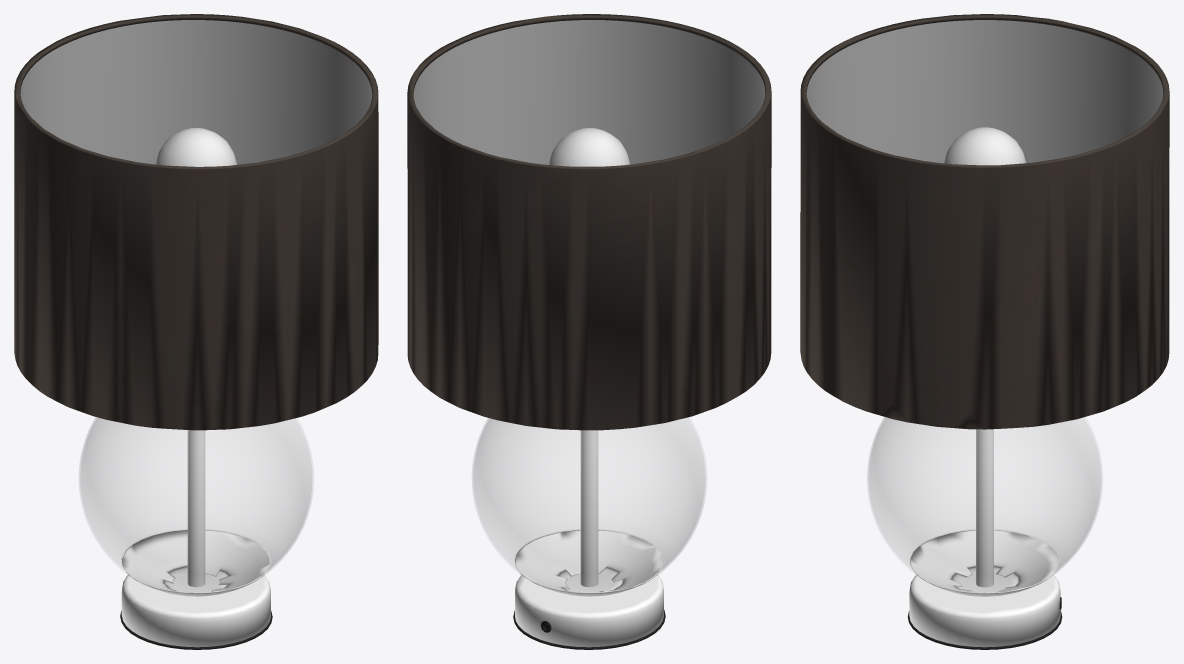
Rendered from IridescenceLamp.glb.
3 renders of one model, left to right at view 1: azimuth 30°, elevation 25°; view 2: azimuth 150°, elevation 25°; view 3: azimuth 270°, elevation 25°, orthographic.
Parts seen in each view (by area): view 1: lamp, lamp_iridescence, lamp_transmission; view 2: lamp, lamp_iridescence, lamp_transmission; view 3: lamp, lamp_iridescence, lamp_transmission.
Part boxes in pixels (box(x1,y1,x2,y2)): lamp: box(14, 14, 378, 649); lamp_iridescence: box(20, 20, 372, 164); lamp_transmission: box(79, 417, 313, 592); lamp: box(407, 14, 771, 649); lamp_iridescence: box(413, 20, 765, 164); lamp_transmission: box(472, 417, 706, 592); lamp: box(800, 14, 1169, 649); lamp_iridescence: box(806, 20, 1163, 163); lamp_transmission: box(867, 417, 1102, 592).
Size of the model in its own units: 0.297 by 0.4761 by 0.3016.
3 materials, 3 textured.
